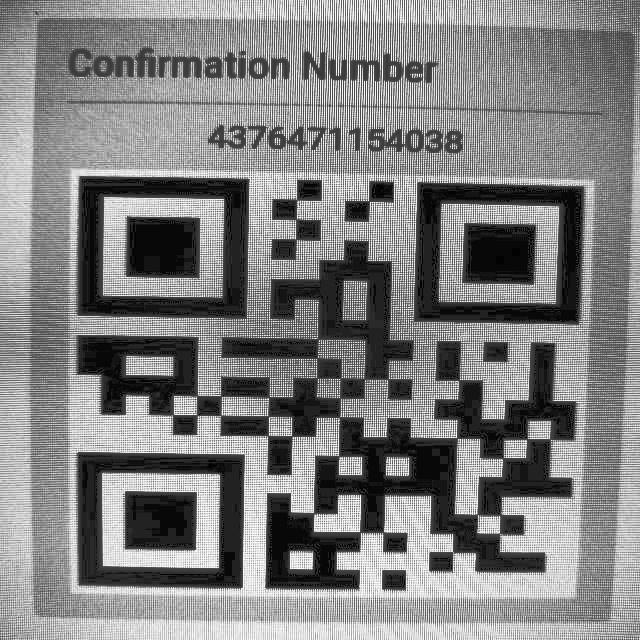qr_code: (62, 154, 585, 595)
